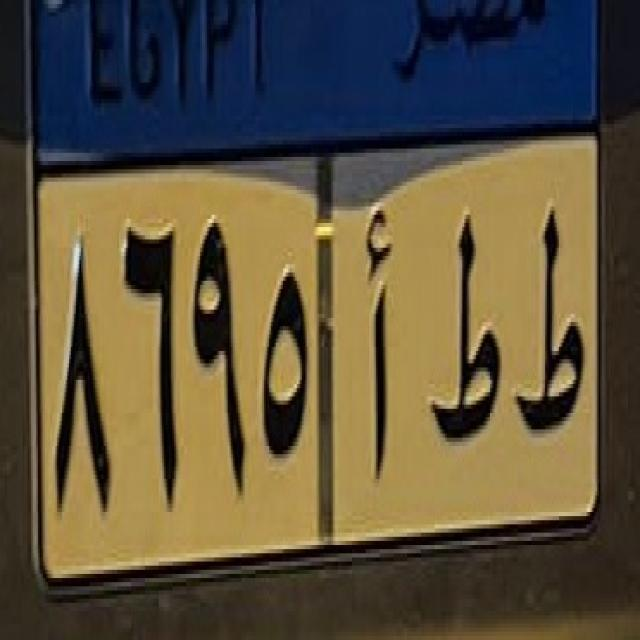5: (258, 271, 317, 474)
6: (108, 232, 200, 516)
8: (46, 222, 116, 521)
9: (190, 243, 250, 494)
Taa: (422, 218, 516, 470), (512, 208, 593, 456)
alef: (360, 196, 396, 510)
